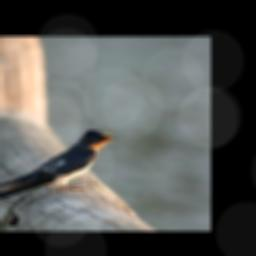Swallow: (0, 125, 122, 203)
